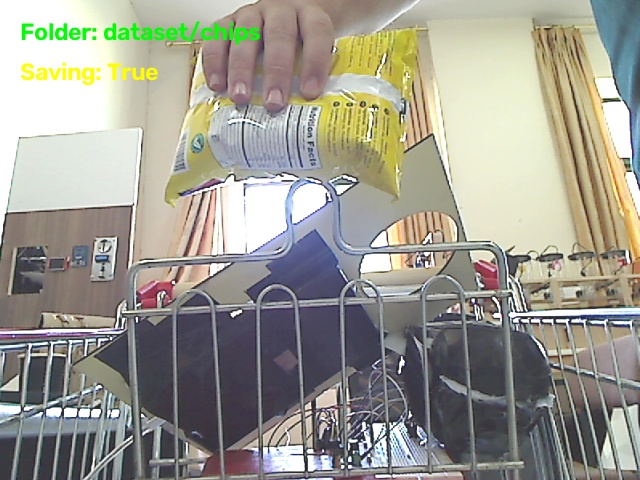chips: (165, 29, 416, 203)
